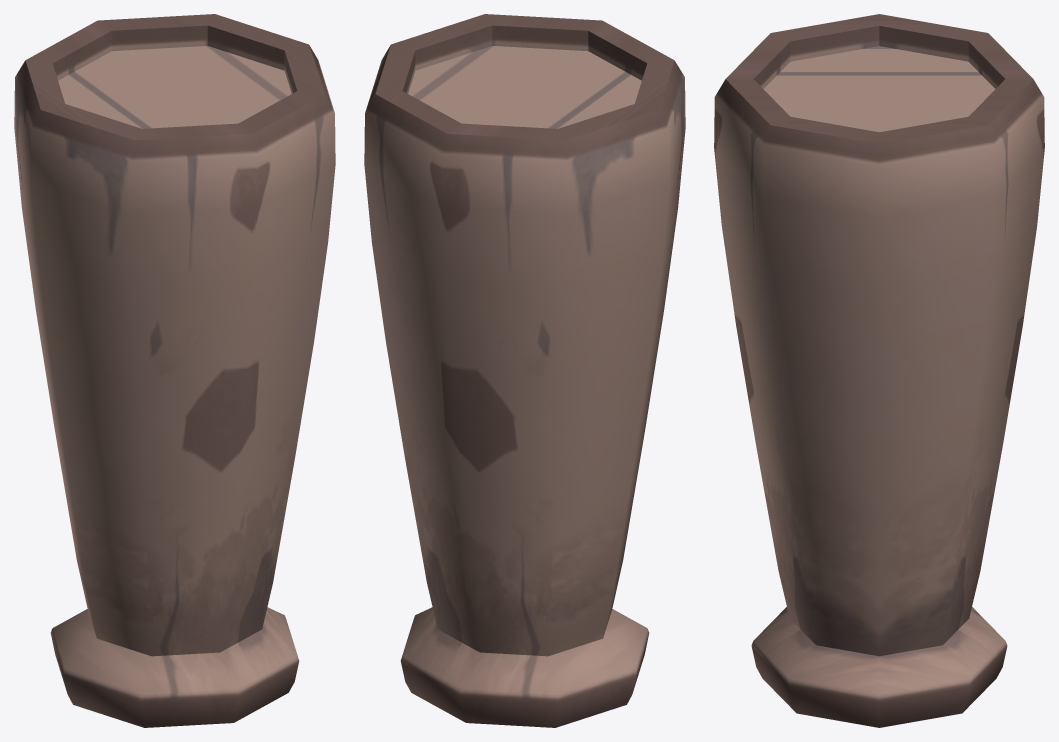
Rendered from Cup.FBX.
3 views of the same model, side by side, from view 1: azimuth 30°, elevation 25°; view 2: azimuth 150°, elevation 25°; view 3: azimuth 270°, elevation 25° (orthographic).
Parts seen in each view (by area): view 1: Z3_Cup; view 2: Z3_Cup; view 3: Z3_Cup.
Part boxes in pixels (x1,y1,x2,y2): Z3_Cup: [14, 14, 335, 727]; Z3_Cup: [364, 14, 685, 727]; Z3_Cup: [714, 14, 1044, 727].
Size of the model in its own units: 33.39 by 66.77 by 33.39.
